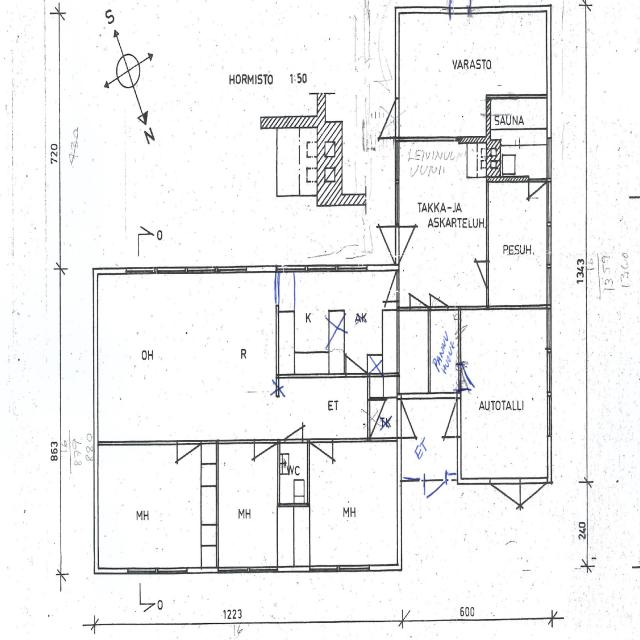door: (489, 478, 518, 524), (518, 478, 546, 524), (395, 227, 426, 265), (368, 227, 399, 265), (397, 401, 427, 438), (432, 402, 461, 438), (424, 478, 447, 516), (177, 439, 200, 475), (254, 438, 276, 474), (311, 438, 333, 474), (346, 345, 366, 377), (458, 364, 480, 390), (378, 275, 399, 302), (468, 262, 489, 287), (285, 414, 302, 443), (410, 282, 427, 310), (431, 282, 448, 310), (530, 178, 546, 205), (448, 0, 470, 12)
